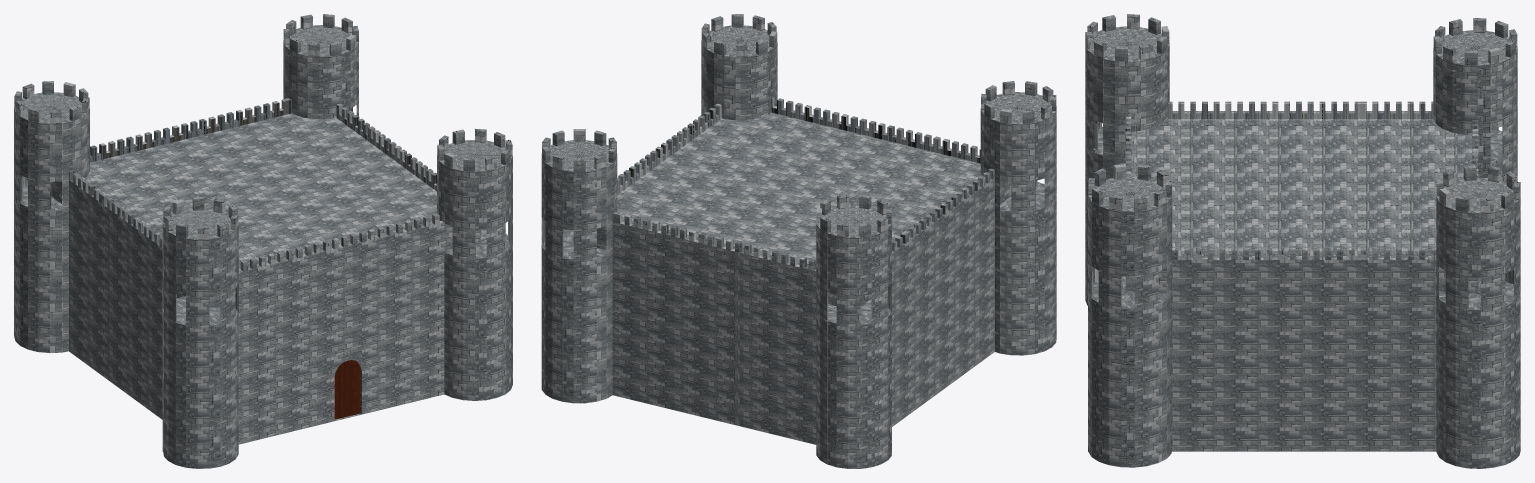
Rendered from Castle.fbx.
The picture shows the model from 3 angles, left to right: view 1: azimuth 30°, elevation 25°; view 2: azimuth 150°, elevation 25°; view 3: azimuth 270°, elevation 25°; orthographic projection. The views are drawn at different scales.
Visible parts, largest first — view 1: pCube1, pCylinder2, pCylinder3, pCylinder4, pCylinder5; view 2: pCube1, pCylinder4, pCylinder5, pCylinder2, pCylinder3; view 3: pCube1, pCylinder5, pCylinder3, pCylinder2, pCylinder4.
Boxes of the visible parts, x1,y1,x2,y2 form: pCube1: [51, 98, 480, 444]; pCylinder2: [161, 197, 238, 468]; pCylinder3: [437, 128, 512, 400]; pCylinder4: [14, 81, 89, 353]; pCylinder5: [283, 14, 358, 119]; pCube1: [597, 97, 1011, 444]; pCylinder4: [816, 194, 891, 468]; pCylinder5: [541, 129, 617, 403]; pCylinder2: [980, 81, 1056, 355]; pCylinder3: [701, 14, 777, 120]; pCube1: [1125, 101, 1478, 451]; pCylinder5: [1436, 165, 1520, 468]; pCylinder3: [1088, 164, 1172, 467]; pCylinder2: [1085, 14, 1169, 305]; pCylinder4: [1433, 18, 1517, 181].
Size of the model in its own units: 62.84 by 41.95 by 61.76.
2 materials, 2 textured.
